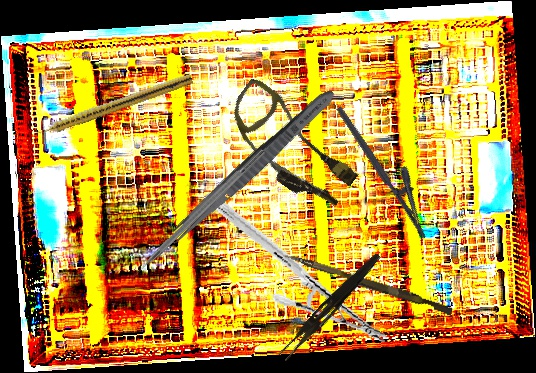Cannula: (211, 75, 370, 218)
Dressing Forceps: (164, 83, 340, 250), (277, 248, 383, 365)
Handpiece: (33, 70, 194, 140)
Hook Surgical: (123, 146, 266, 285)
Needle Holder: (185, 192, 407, 344), (335, 94, 445, 241)
Pusher: (282, 252, 454, 316)
